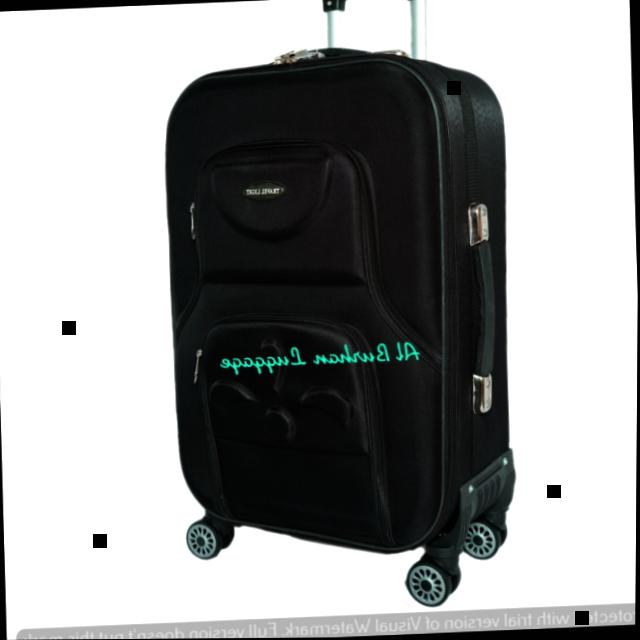luggage: (157, 36, 524, 568)
